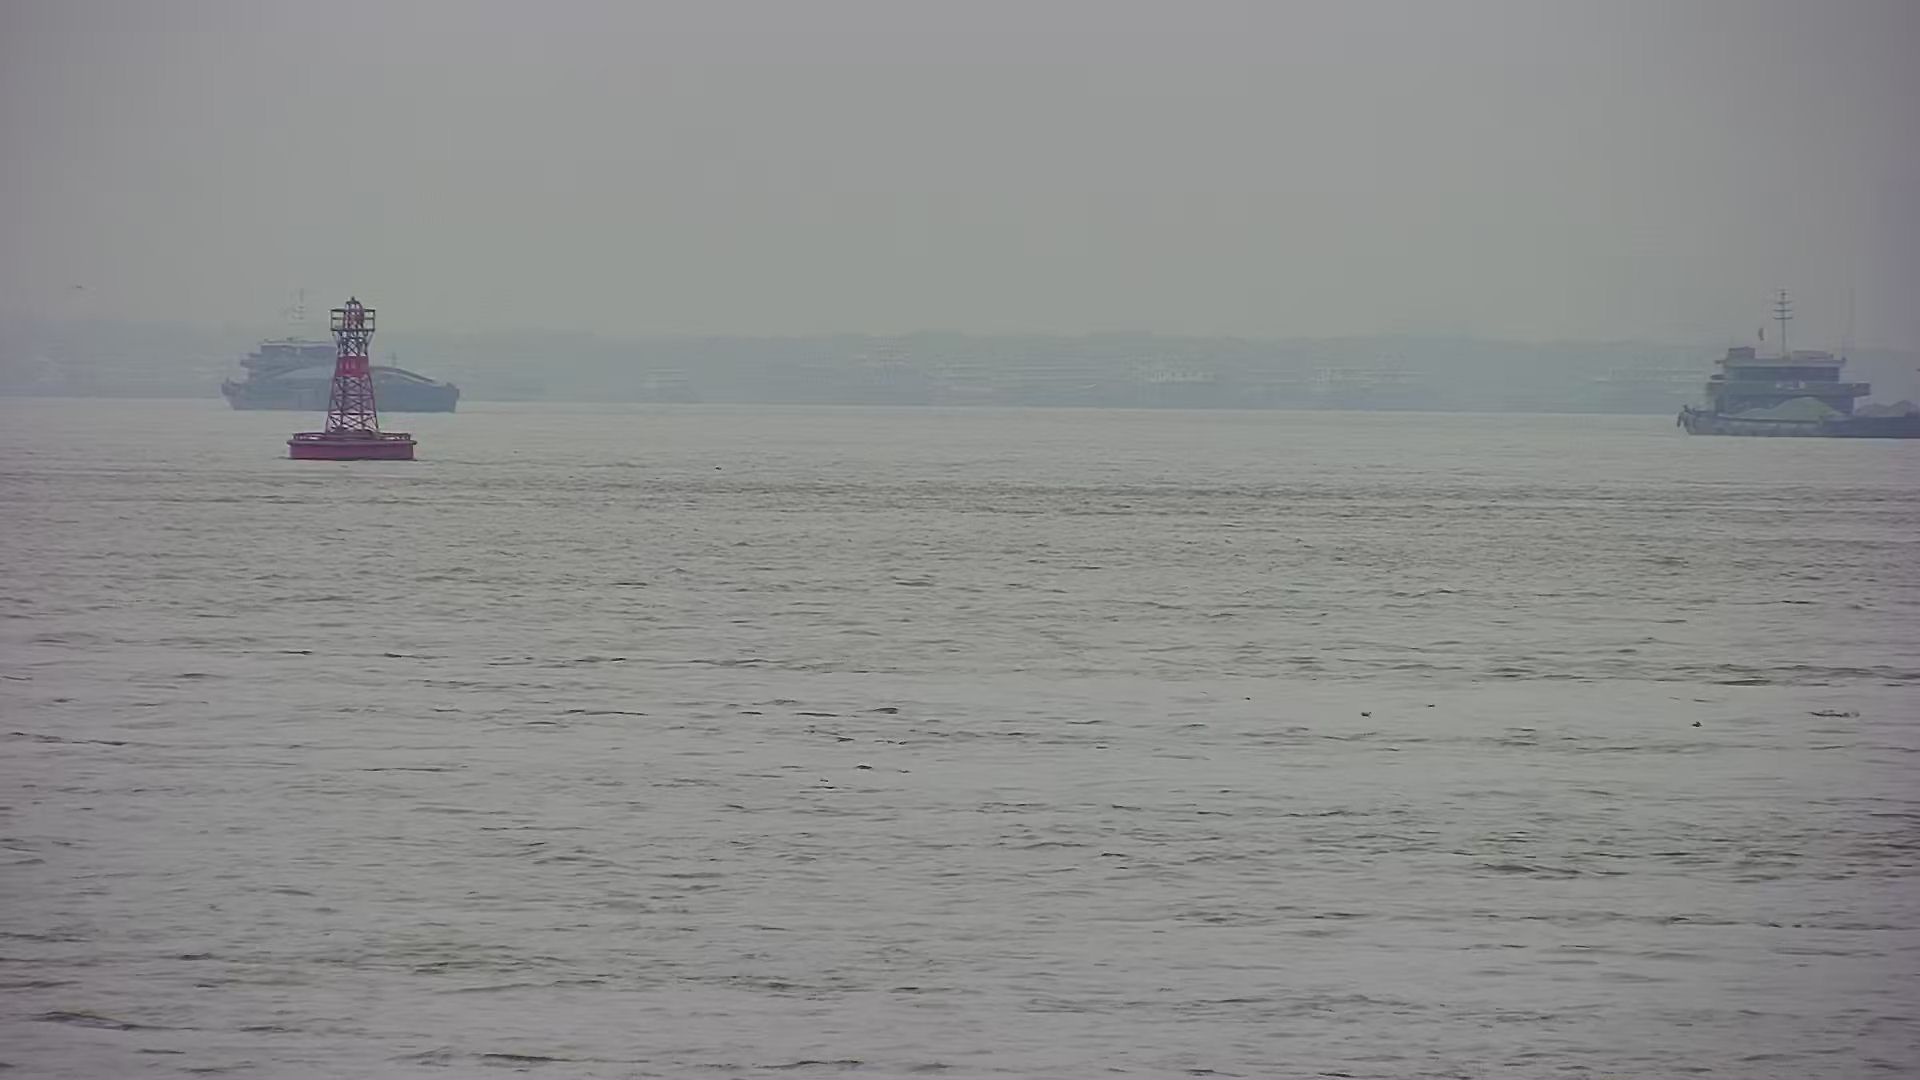buoy: (281, 286, 425, 472)
ship: (216, 273, 473, 425), (1671, 311, 1920, 444)
